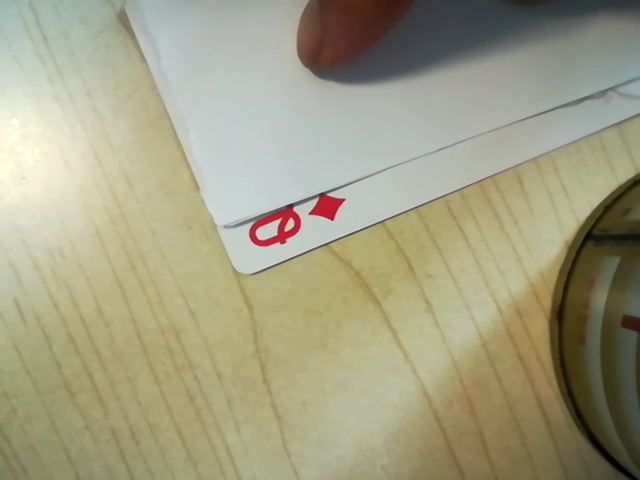fk q: (236, 189, 342, 258)
